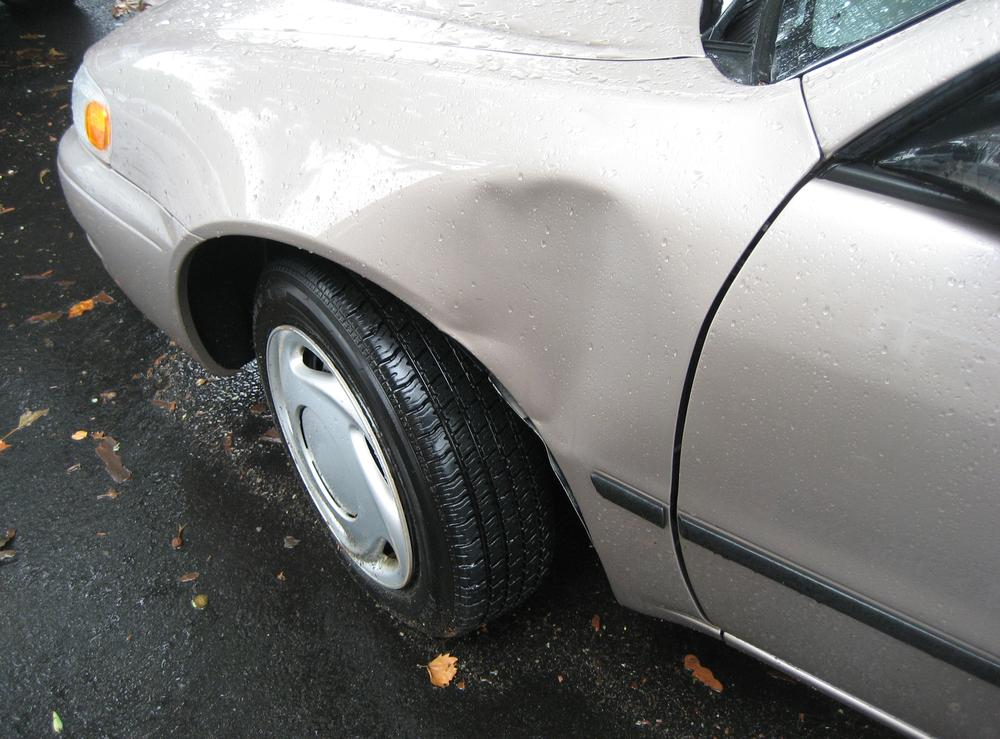dent: (389, 182, 651, 458)
